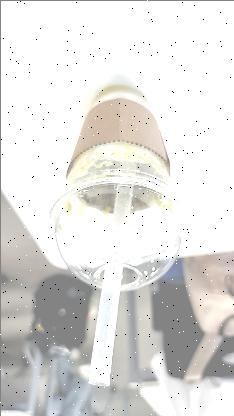Others: (45, 82, 191, 292), (46, 168, 194, 292), (88, 162, 140, 386)
